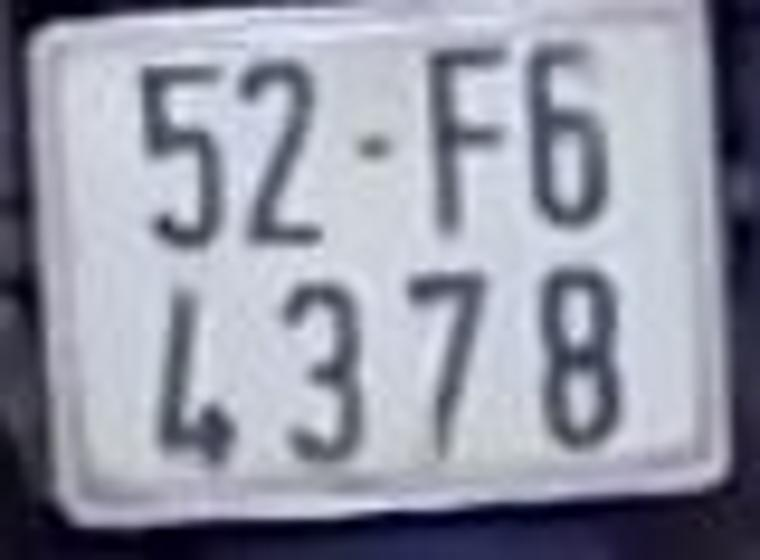-: (351, 131, 392, 155)
2: (243, 61, 320, 243)
3: (280, 286, 362, 465)
4: (149, 291, 239, 472)
5: (141, 63, 222, 248)
6: (525, 41, 607, 230)
7: (406, 275, 485, 461)
8: (539, 267, 623, 454)
F: (426, 45, 509, 236)
